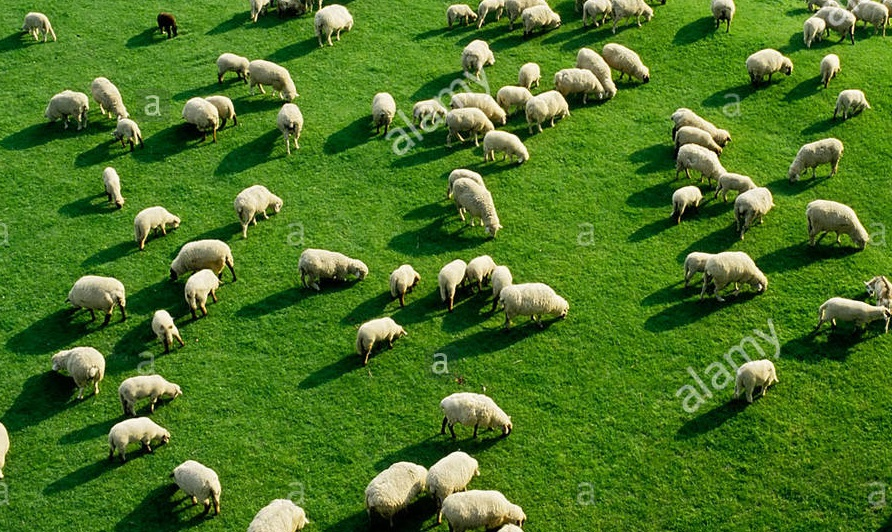sheep: (436, 372, 541, 455), (340, 452, 448, 530), (440, 167, 505, 245), (494, 271, 571, 328), (818, 289, 889, 346), (708, 250, 788, 299), (797, 202, 867, 258), (222, 182, 282, 245), (125, 192, 192, 247), (422, 454, 505, 497), (663, 130, 729, 184), (431, 486, 507, 532), (785, 135, 852, 186), (480, 1, 577, 36), (64, 279, 135, 325), (741, 358, 798, 415), (45, 342, 105, 394), (422, 250, 473, 309), (367, 254, 421, 308), (247, 47, 300, 100), (304, 246, 366, 291), (269, 100, 319, 155), (569, 44, 614, 105), (180, 268, 224, 330), (352, 314, 416, 356), (306, 2, 367, 46), (469, 124, 531, 167), (185, 91, 237, 142), (168, 240, 229, 283), (525, 86, 584, 130), (809, 5, 868, 49), (601, 35, 645, 92), (95, 416, 167, 450), (169, 454, 213, 509), (43, 92, 99, 135), (545, 67, 605, 104), (143, 309, 184, 363), (118, 377, 185, 409), (441, 103, 497, 141), (667, 103, 721, 141), (745, 50, 797, 89), (16, 9, 67, 46), (445, 88, 510, 116), (109, 115, 151, 156), (453, 245, 489, 291), (477, 254, 510, 304), (97, 73, 131, 118), (483, 81, 529, 113), (715, 171, 757, 202), (367, 86, 390, 140), (157, 8, 187, 49), (682, 249, 714, 287), (215, 41, 245, 77), (809, 50, 840, 84), (445, 1, 480, 30), (599, 1, 652, 18), (836, 91, 868, 119), (680, 1, 715, 18)
